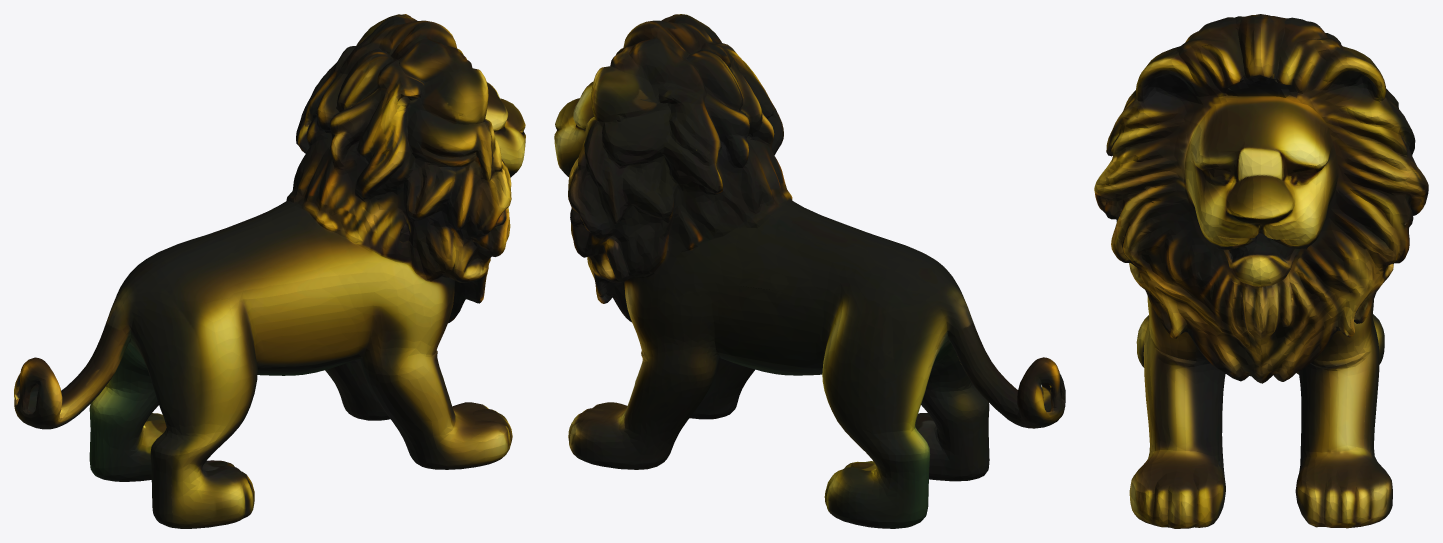
Rendered from sample3d_0.glb.
3 views of the same model, side by side, from view 1: azimuth 30°, elevation 25°; view 2: azimuth 150°, elevation 25°; view 3: azimuth 270°, elevation 25° (orthographic). The views are drawn at different scales.
Visible parts, largest first — view 1: sample3d_0.obj; view 2: sample3d_0.obj; view 3: sample3d_0.obj.
Boxes of the visible parts, bbox=[...] form: sample3d_0.obj: bbox=[14, 14, 525, 528]; sample3d_0.obj: bbox=[554, 14, 1065, 528]; sample3d_0.obj: bbox=[1094, 14, 1428, 528].
Bounding box in the file's own units: 0.3826 × 0.3 × 0.1852.
Materials: 1 (1 with a texture image).
